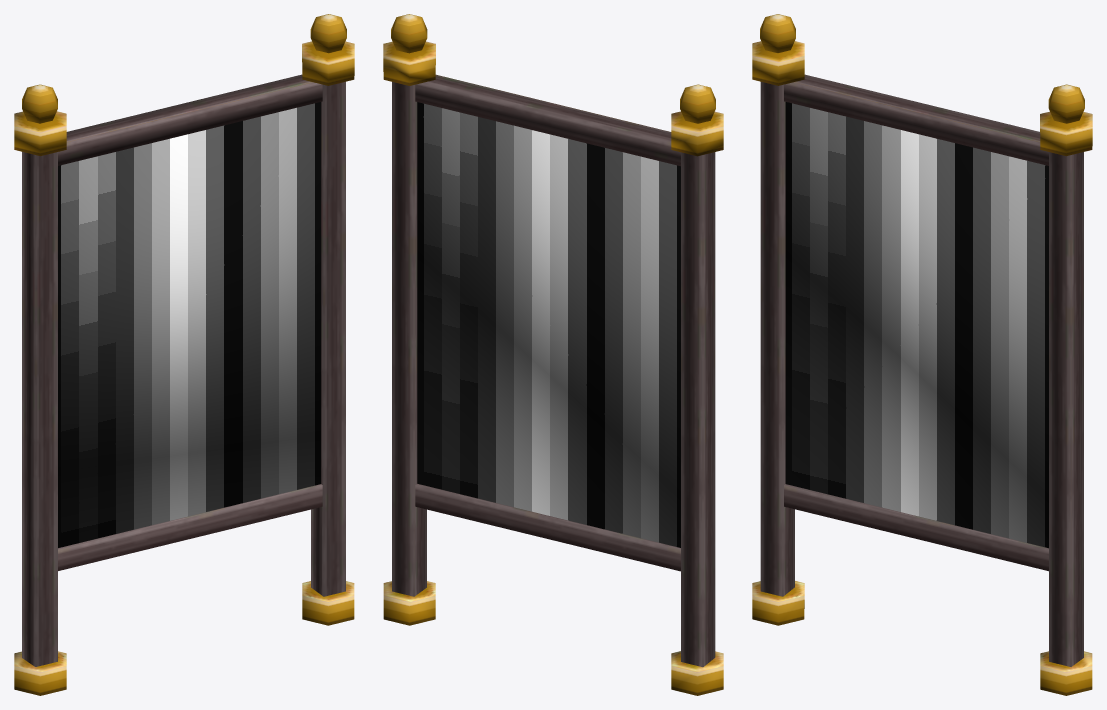
Rendered from rmk_mse_poster.dae.
The picture shows the model from 3 angles, left to right: view 1: azimuth 30°, elevation 25°; view 2: azimuth 150°, elevation 25°; view 3: azimuth 330°, elevation 25°; orthographic projection.
Visible parts, largest first — view 1: rmk_mse_poster; view 2: rmk_mse_poster; view 3: rmk_mse_poster.
Part boxes in pixels (<box>): rmk_mse_poster: <box>14,14,354,695</box>; rmk_mse_poster: <box>383,14,723,695</box>; rmk_mse_poster: <box>752,14,1092,695</box>.
Bounding box in the file's own units: 31.09 × 52.23 × 4.16.
3 materials, 3 textured.
